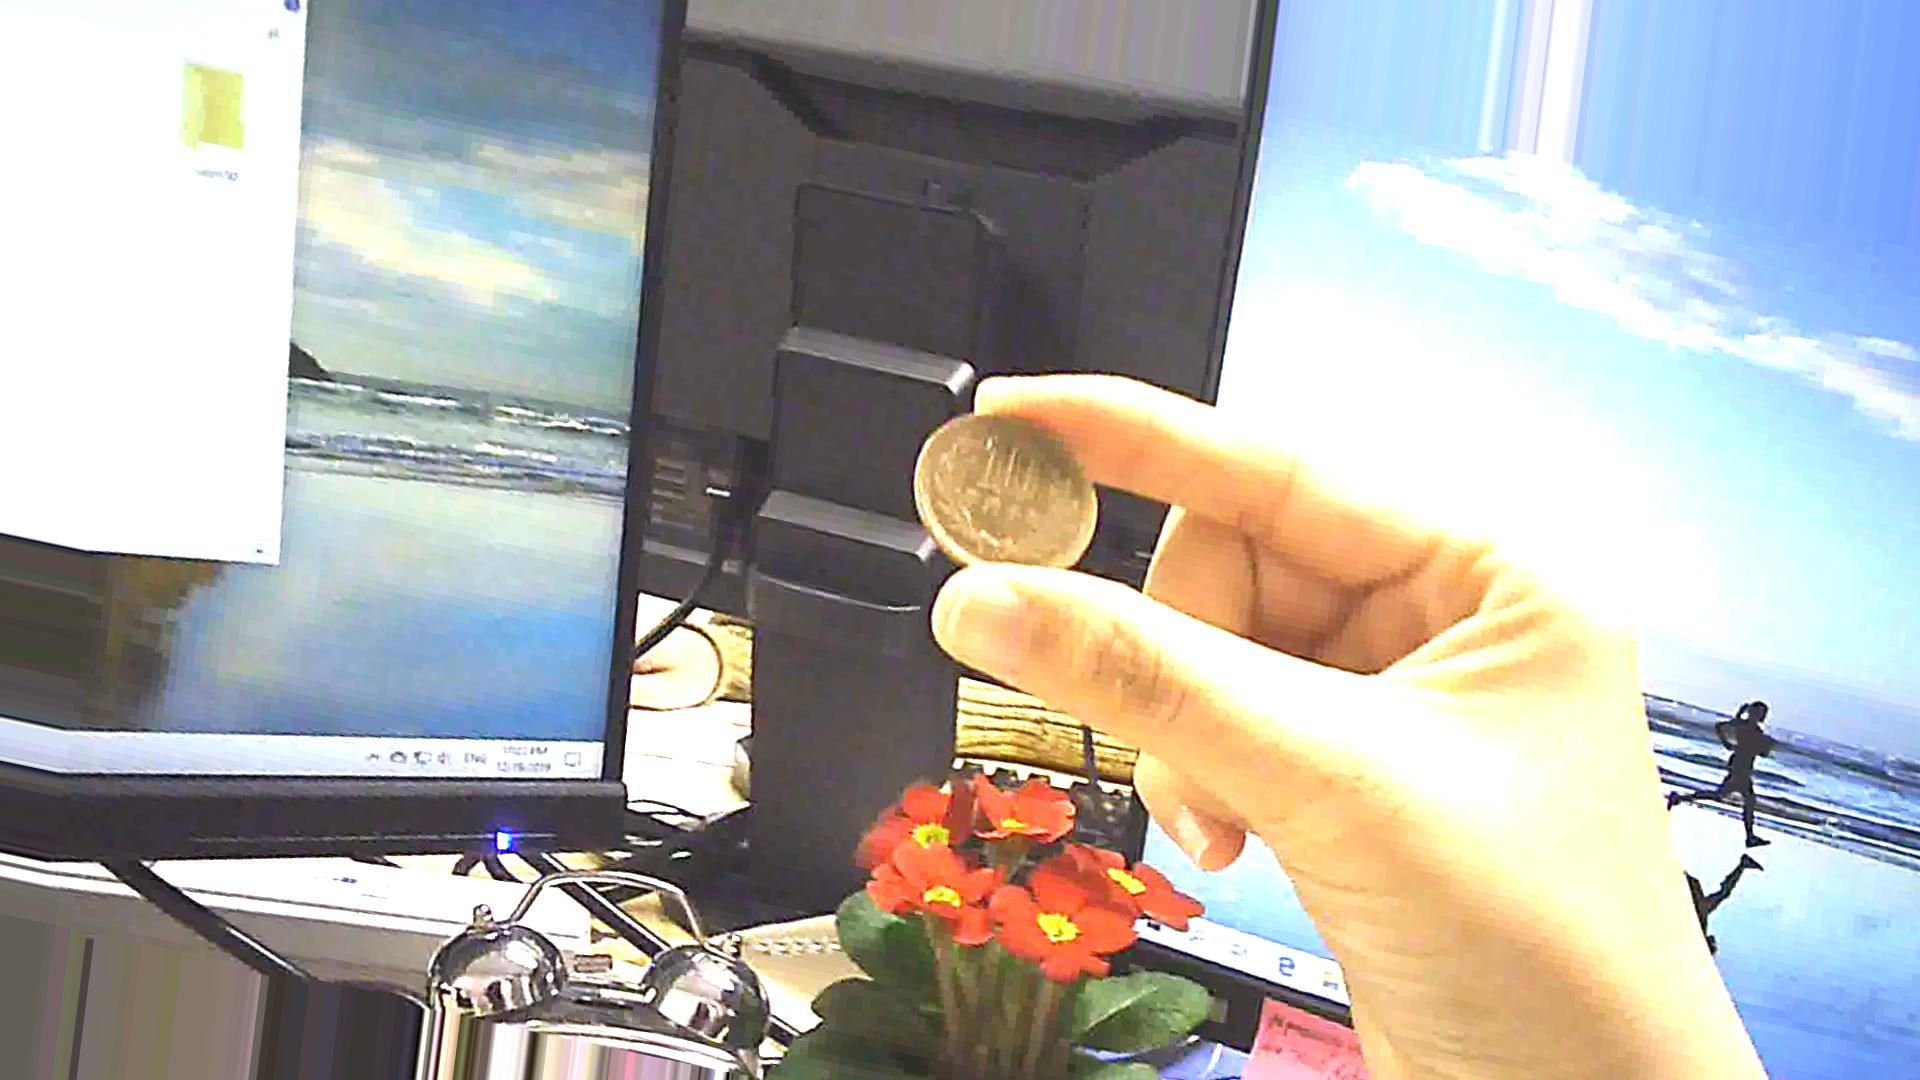10 Yen: (911, 386, 1098, 582)
